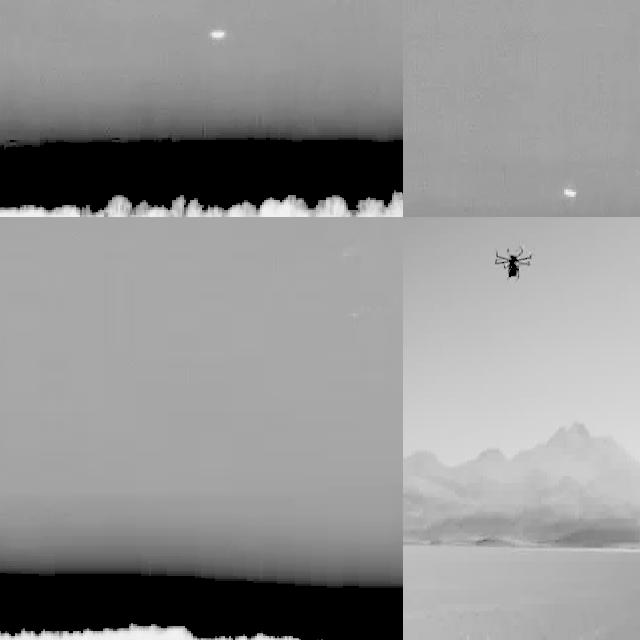0: (332, 240, 358, 272), (344, 305, 370, 332)
1: (203, 22, 239, 52), (559, 184, 589, 204)
drone: (489, 236, 534, 290)
